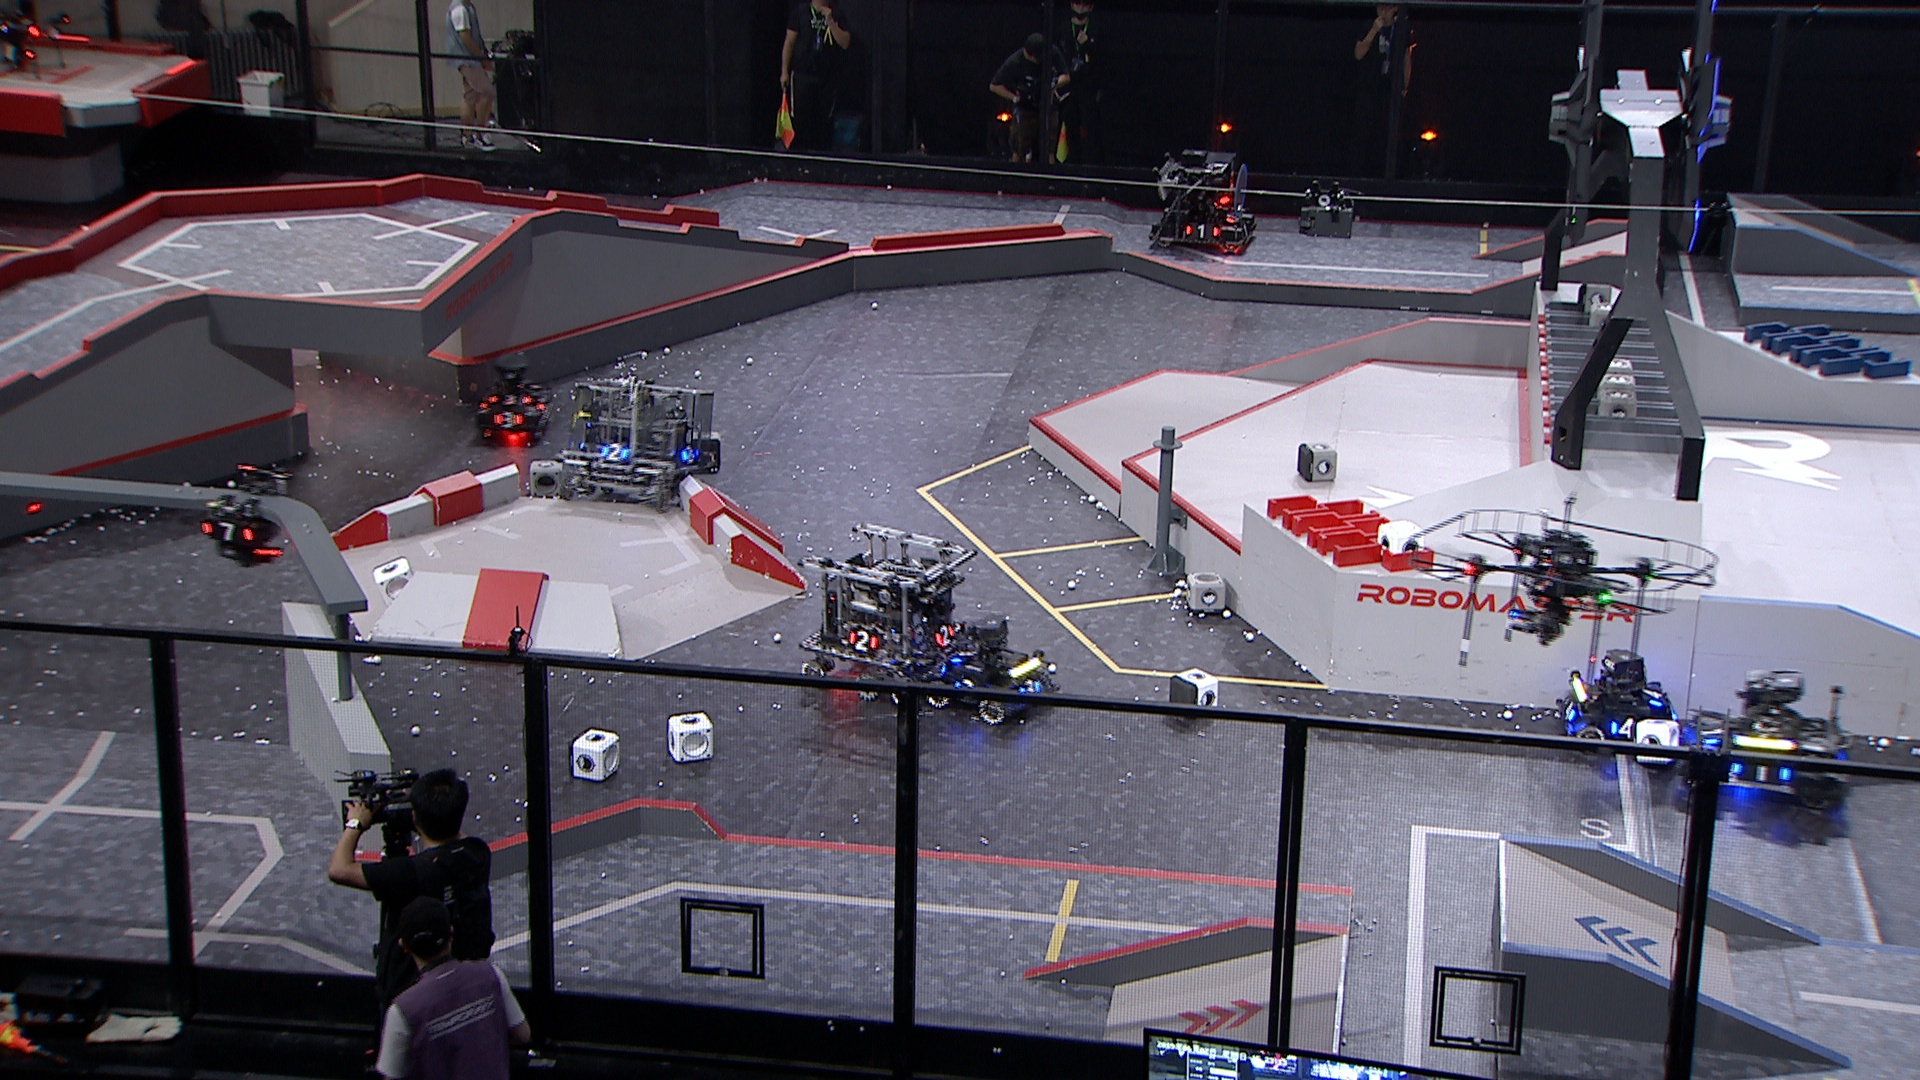armor: (1731, 760, 1797, 789), (200, 518, 255, 546), (597, 443, 636, 465), (1607, 716, 1640, 741), (849, 629, 878, 654), (1642, 683, 1665, 711), (1698, 723, 1726, 746), (1185, 223, 1224, 240), (493, 410, 524, 431), (934, 626, 957, 651), (489, 394, 531, 407), (1560, 700, 1578, 725), (679, 446, 702, 465), (1015, 678, 1040, 695), (951, 678, 978, 692), (1240, 222, 1254, 240), (1224, 214, 1245, 225)
car: (798, 522, 977, 705), (1676, 671, 1854, 822), (551, 376, 723, 513), (920, 617, 1062, 725), (1552, 647, 1679, 756), (1150, 150, 1257, 257), (472, 353, 550, 442)
watcher: (200, 463, 289, 564)
